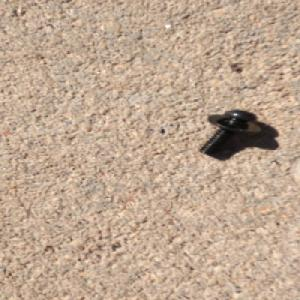BoltWasher: (196, 106, 262, 155)
